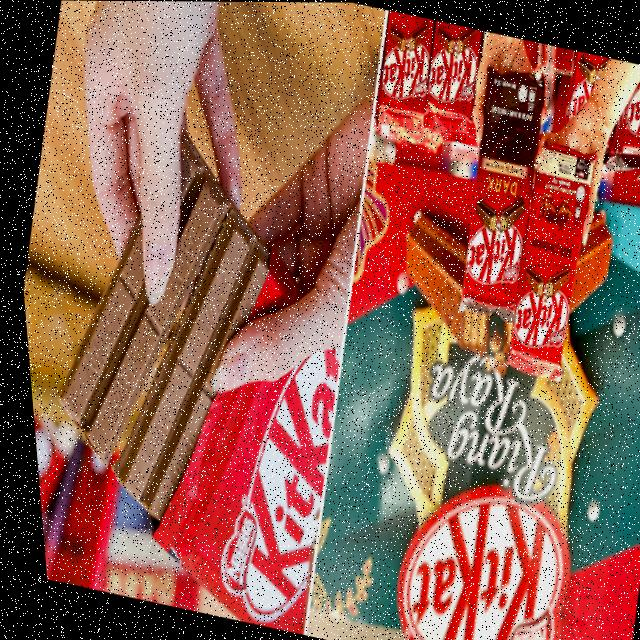kitkat: (437, 58, 561, 317), (486, 147, 605, 380), (410, 19, 499, 155), (365, 10, 443, 136), (601, 59, 640, 171)
